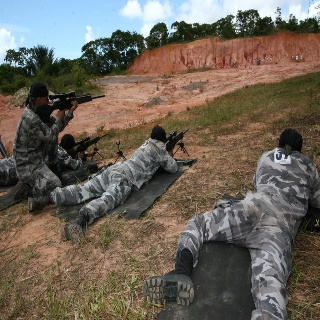rifle: (35, 90, 109, 122), (60, 132, 107, 157), (159, 127, 190, 159)
